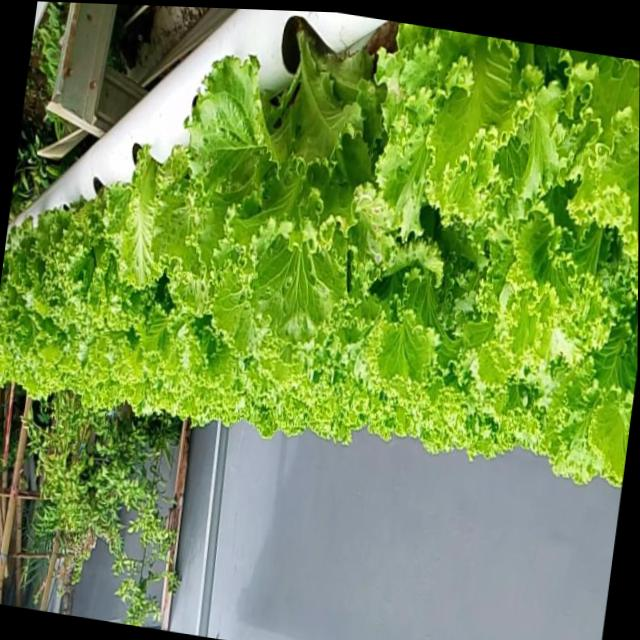Mature: (0, 14, 640, 482), (169, 14, 401, 341), (42, 173, 154, 331)
